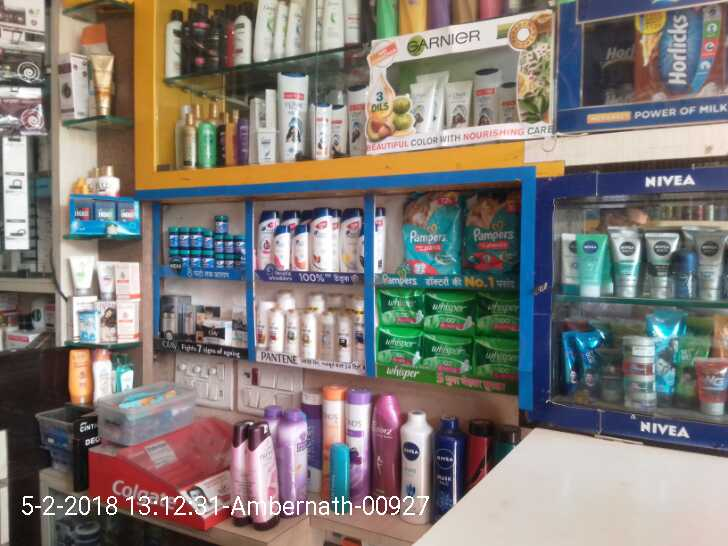vicks: (171, 213, 248, 272)
